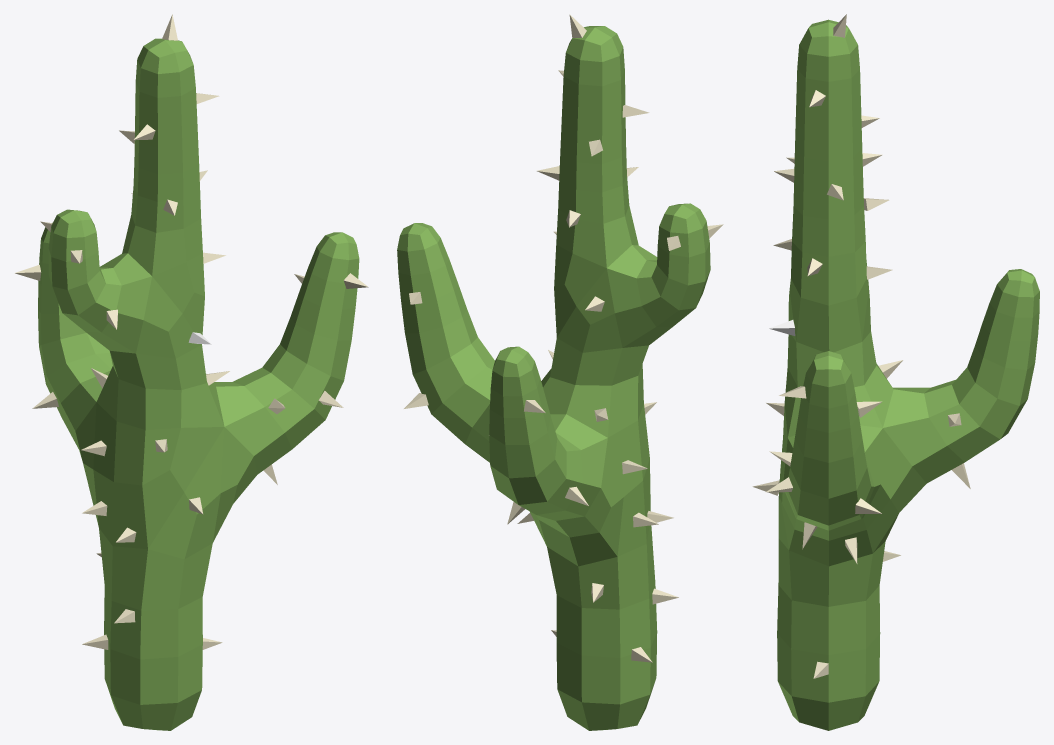
File: cactus-model01.fbx
The picture shows the model from 3 angles, left to right: view 1: azimuth 30°, elevation 25°; view 2: azimuth 150°, elevation 25°; view 3: azimuth 270°, elevation 25°; orthographic projection. The views are drawn at different scales.
Visible parts, largest first — view 1: Plane, Cone; view 2: Plane, Cone; view 3: Plane, Cone.
Part boxes in pixels (<box>): Plane: <box>38,38,359,730</box>; Cone: <box>14,14,368,649</box>; Plane: <box>397,26,710,730</box>; Cone: <box>404,14,723,662</box>; Plane: <box>777,19,1039,730</box>; Cone: <box>752,14,970,678</box>.
Bounding box in the file's own units: 117 × 92.82 × 259.
